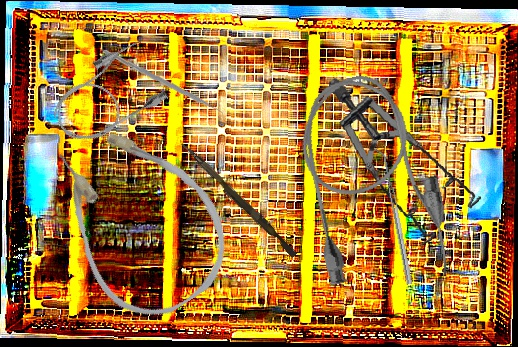Cannula: (28, 98, 251, 338), (286, 63, 459, 301), (40, 34, 175, 155)
Chopper: (102, 41, 227, 133)
Pusher: (175, 140, 301, 259)
Spatula Surgical: (374, 146, 413, 286)
Speculum: (328, 60, 487, 255)
